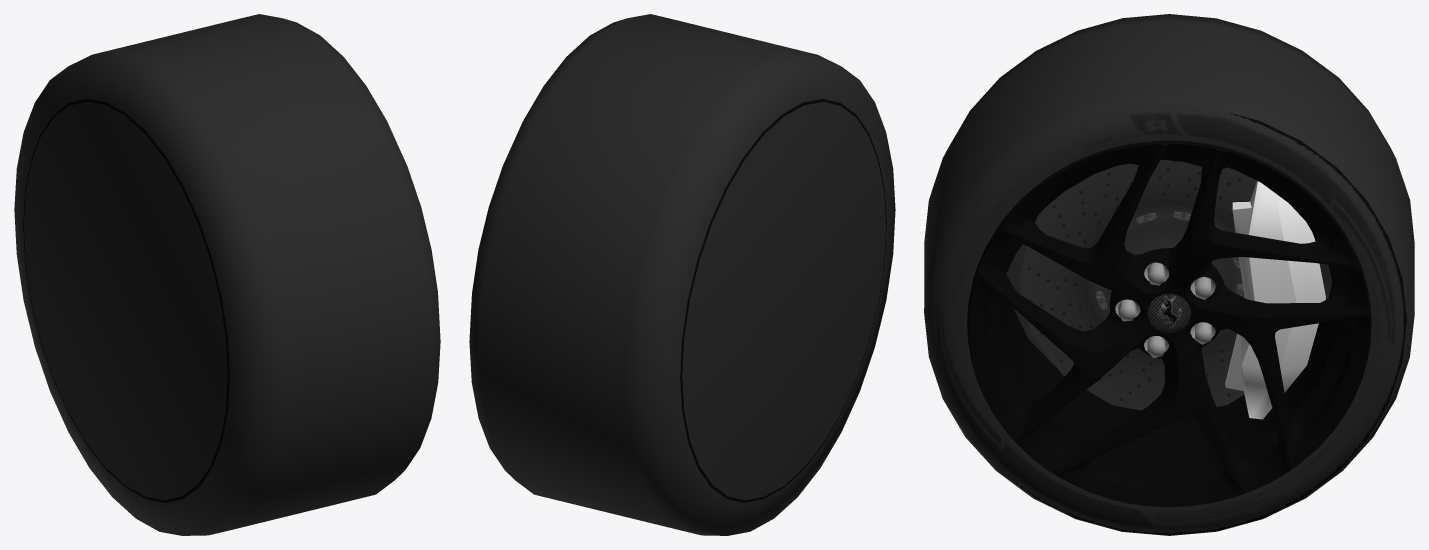
File: wheels.glb
3 renders of one model, left to right at view 1: azimuth 30°, elevation 25°; view 2: azimuth 150°, elevation 25°; view 3: azimuth 270°, elevation 25°, orthographic.
Parts seen in each view (by area): view 1: wheelFL_pivot_Rims_Material_002_0.005; view 2: wheelFL_pivot_Rims_Material_002_0.005; view 3: wheelFL_pivot_Rims_Material_002_0.005, WheelFR_pivot_Rims_Material_002_0.003, bone_caliper_FL_pivot_details_Material_002_0, wheelFL_pivot_Rims_Material_002_0.001.
Boxes of the visible parts, x1,y1,x2,y2 form: wheelFL_pivot_Rims_Material_002_0.005: [14, 14, 440, 535]; wheelFL_pivot_Rims_Material_002_0.005: [469, 14, 895, 535]; wheelFL_pivot_Rims_Material_002_0.005: [924, 14, 1414, 535]; WheelFR_pivot_Rims_Material_002_0.003: [967, 140, 1371, 507]; bone_caliper_FL_pivot_details_Material_002_0: [1225, 181, 1325, 419]; wheelFL_pivot_Rims_Material_002_0.001: [1147, 293, 1191, 332].
Size of what is drawn, in the model's own units: 0.3352 by 0.6952 by 0.6952.
4 materials, 2 textured.
